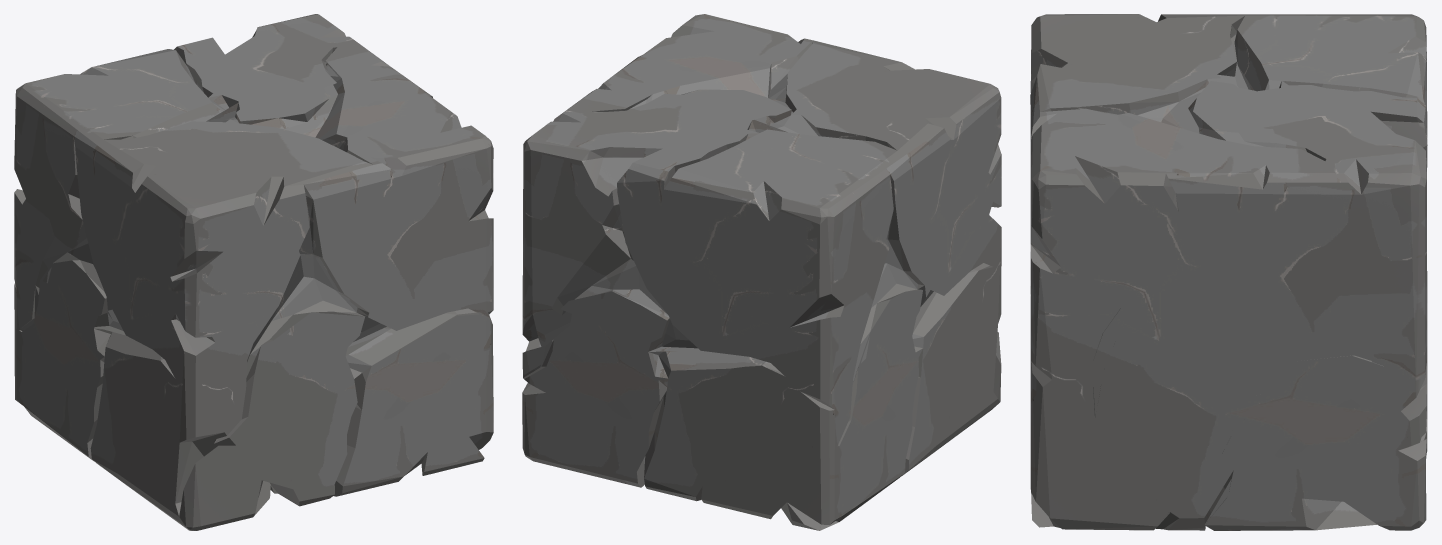
The model's file is box damaged.fbx.
The picture shows the model from 3 angles, left to right: view 1: azimuth 30°, elevation 25°; view 2: azimuth 150°, elevation 25°; view 3: azimuth 270°, elevation 25°; orthographic projection. The views are drawn at different scales.
Parts seen in each view (by area): view 1: Cube.029; view 2: Cube.029; view 3: Cube.029.
Boxes of the visible parts, x1,y1,x2,y2 form: Cube.029: [14, 14, 493, 530]; Cube.029: [522, 14, 1001, 530]; Cube.029: [1030, 14, 1427, 530].
Size of the model in its own units: 194 by 194 by 194.
1 material, 1 textured.
